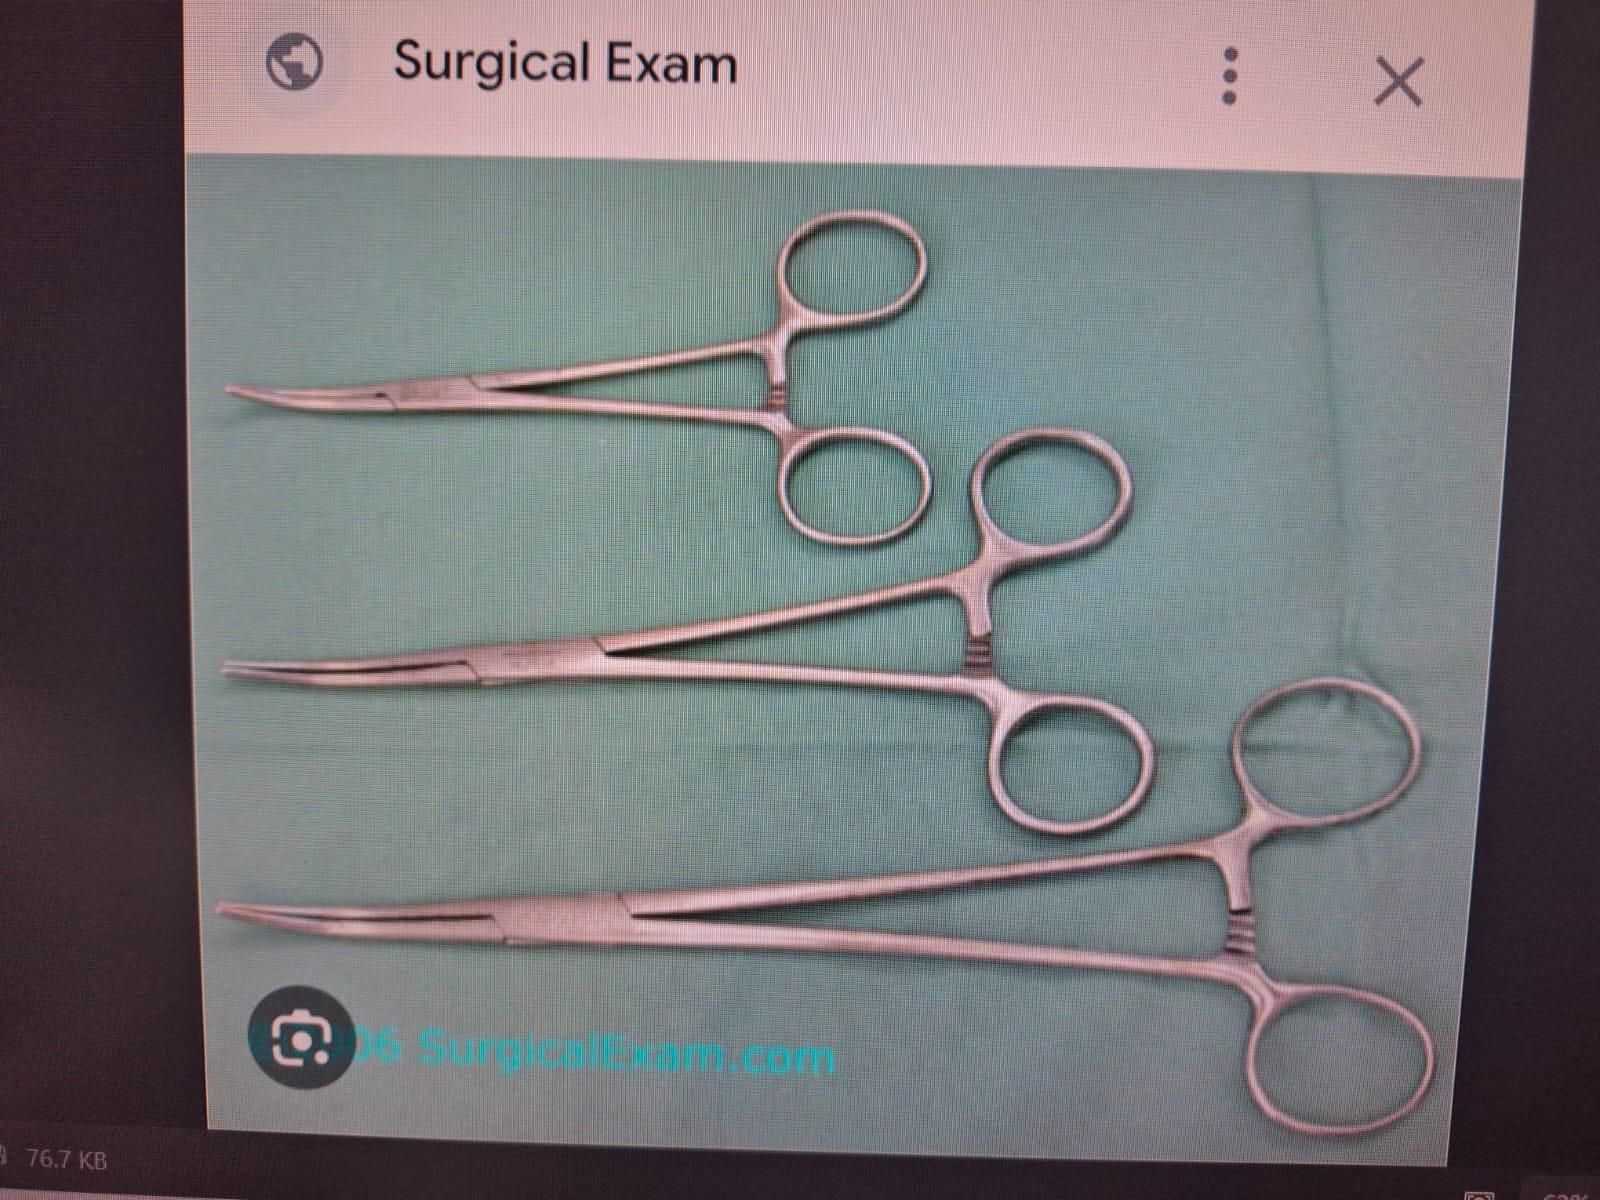Artery Forceps: (210, 658, 1461, 1145), (207, 410, 1182, 842), (210, 208, 970, 560)
